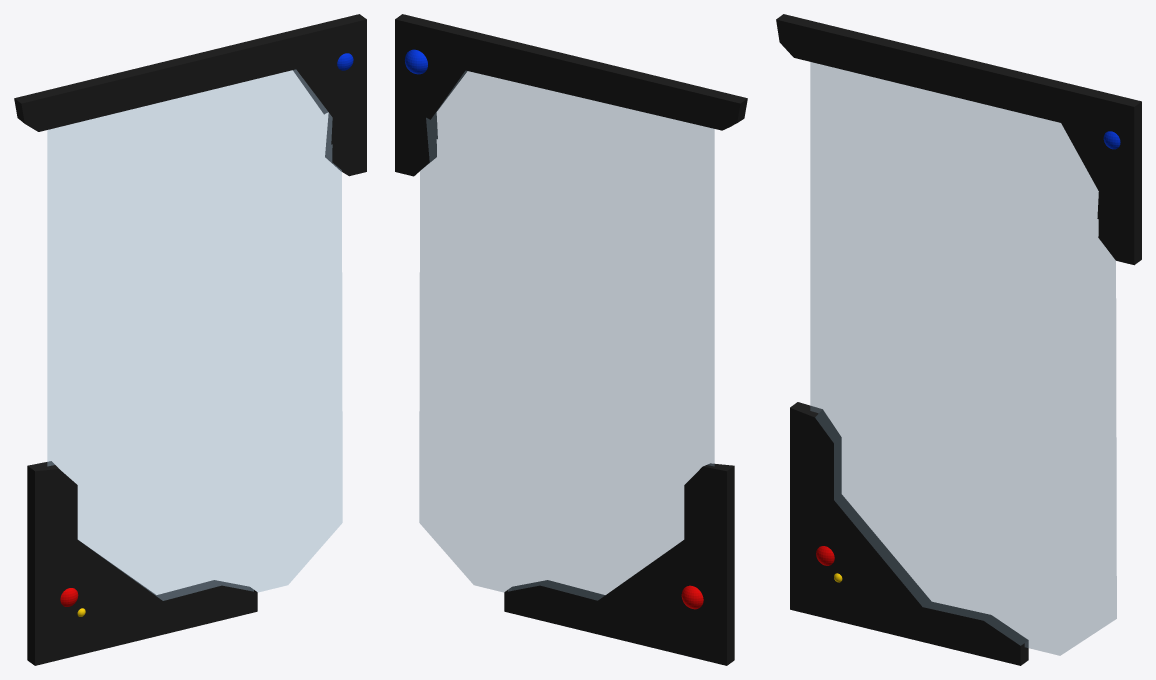
File: tablet.fbx
3 views of the same model, side by side, from view 1: azimuth 30°, elevation 25°; view 2: azimuth 150°, elevation 25°; view 3: azimuth 330°, elevation 25° (orthographic). The views are drawn at different scales.
Parts seen in each view (by area): view 1: screen.001; view 2: screen.001; view 3: screen.001.
Part boxes in pixels (<box>): screen.001: <box>14,14,366,665</box>; screen.001: <box>395,14,747,665</box>; screen.001: <box>776,14,1141,665</box>.
Size of the model in its own units: 135 by 211 by 9.87.
